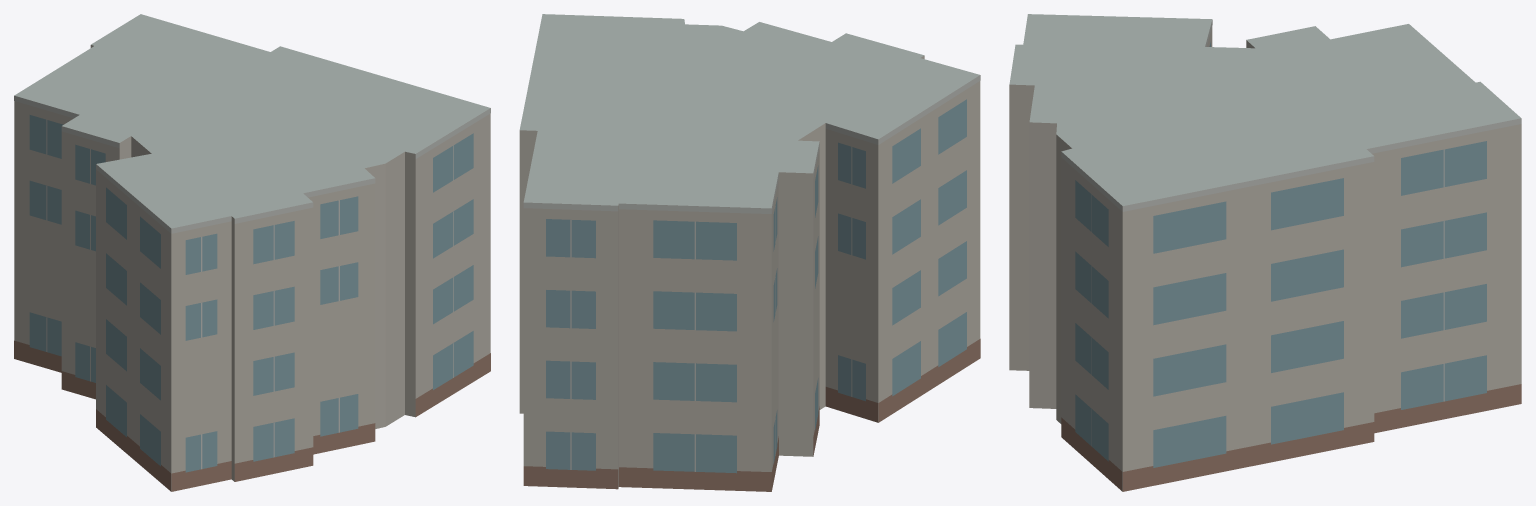
The model's file is survey-upis-33035601.glb.
3 renders of one model, left to right at view 1: azimuth 30°, elevation 25°; view 2: azimuth 150°, elevation 25°; view 3: azimuth 270°, elevation 25°, orthographic. The views are drawn at different scales.
Visible parts, largest first — view 1: survey-upis-33035601.tmp; view 2: survey-upis-33035601.tmp; view 3: survey-upis-33035601.tmp.
Boxes of the visible parts, x1,y1,x2,y2 form: survey-upis-33035601.tmp: (14,14,490,491); survey-upis-33035601.tmp: (519,14,980,491); survey-upis-33035601.tmp: (1009,14,1521,491).
Bounding box in the file's own units: 17.56 × 12.16 × 19.77.
